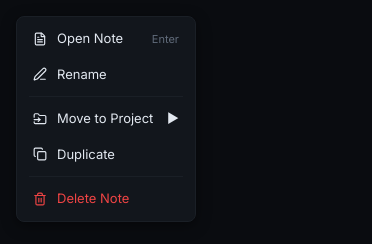
Test: NoteContextMenu › Move to Project submenu › disables No Project option for notes without a project
This screenshot has width=372, height=244.
Hover over the text "Move to Project" at x=106, y=119, box [21, 101, 191, 136]
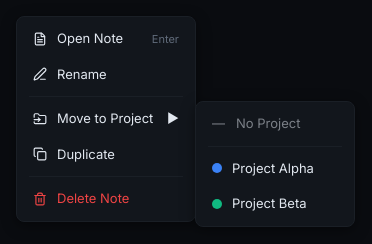
Now the button "— No Project" is disabled, box [200, 106, 350, 142]
